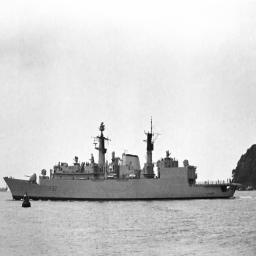Fragata: (3, 118, 238, 204)
